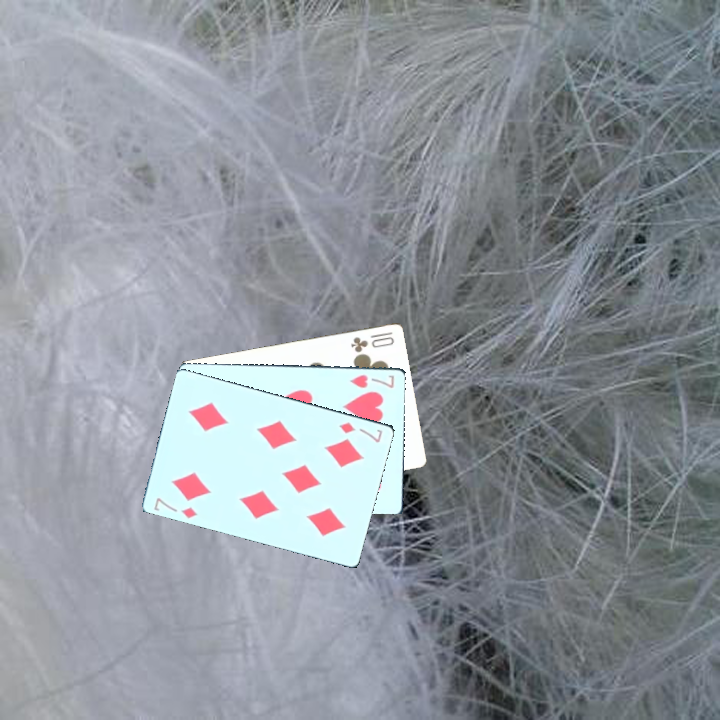10c: (347, 328, 397, 355)
7d: (150, 494, 201, 521), (335, 418, 385, 445)
7h: (346, 371, 396, 391)
